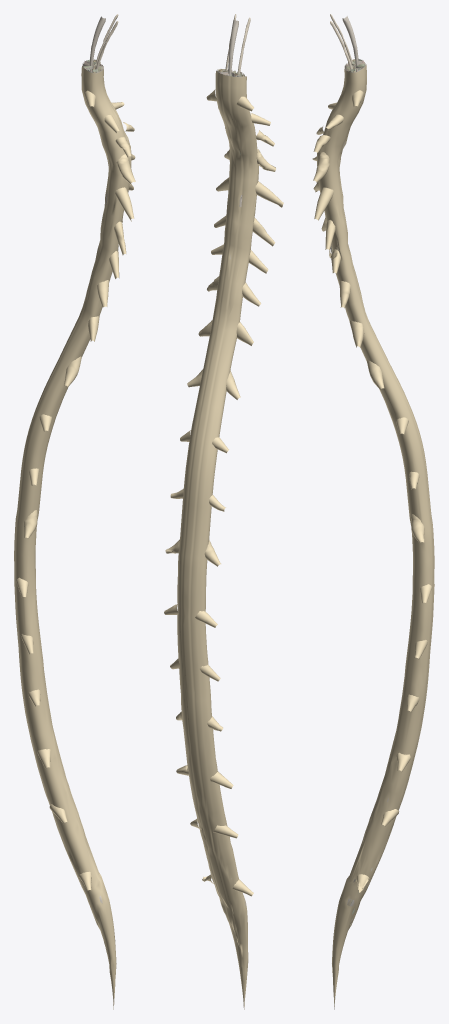
File: body-spinal-cord.lod1.glb
3 renders of one model, left to right at view 1: azimuth 90°, elevation 25°; view 2: azimuth 150°, elevation 25°; view 3: azimuth 270°, elevation 25°, orthographic.
Parts seen in each view (by area): view 1: spinal-dura; view 2: spinal-dura; view 3: spinal-dura.
Boxes of the visible parts, x1,y1,x2,y2 form: spinal-dura: (14, 66, 135, 1009); spinal-dura: (164, 71, 283, 1009); spinal-dura: (312, 64, 434, 1006).
Size of the model in its own units: 0.0346 by 0.4901 by 0.0545.
